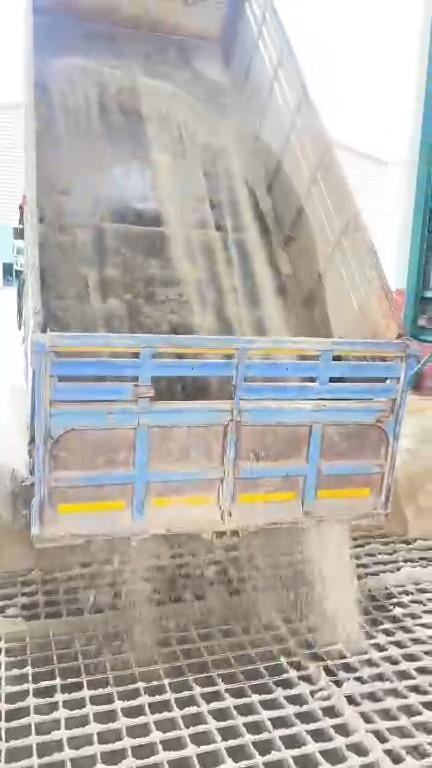sand: (0, 467, 360, 653), (140, 82, 293, 335), (352, 396, 431, 539), (52, 59, 161, 123), (312, 666, 377, 756), (0, 611, 116, 638), (365, 565, 431, 588), (195, 49, 224, 81)
